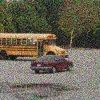buses: (0, 32, 69, 63)
